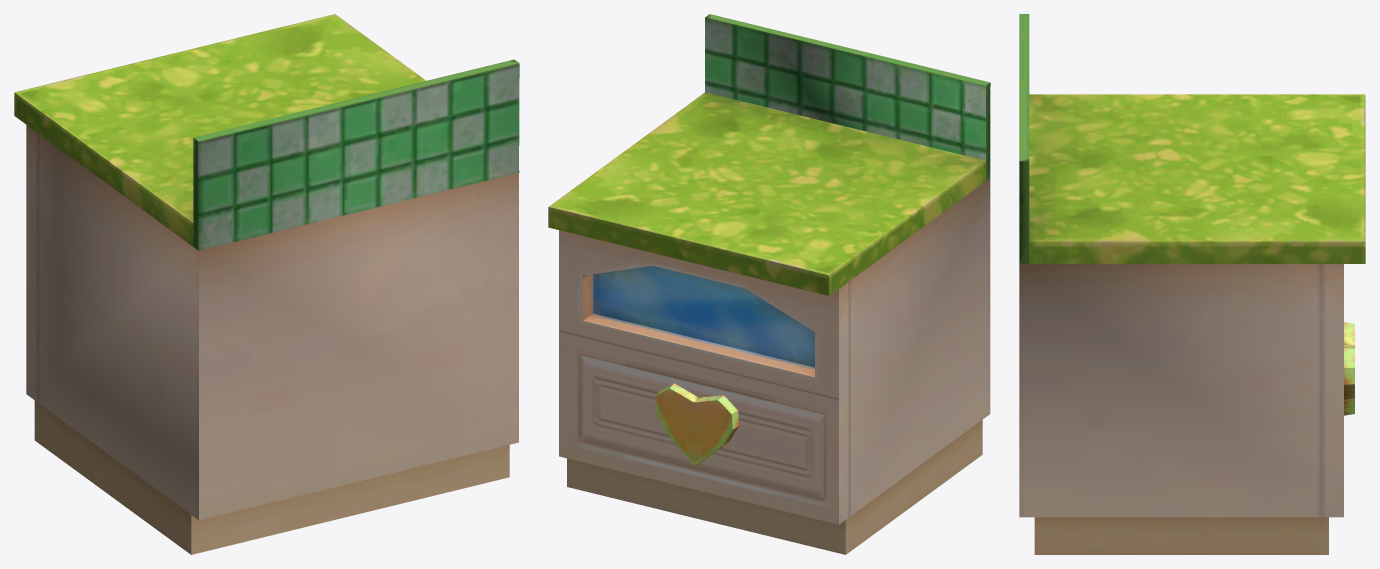
Rendered from furni_0200019_02.FBX.
3 renders of one model, left to right at view 1: azimuth 30°, elevation 25°; view 2: azimuth 150°, elevation 25°; view 3: azimuth 270°, elevation 25°, orthographic. The views are drawn at different scales.
Visible parts, largest first — view 1: furni_0200019_02; view 2: furni_0200019_02; view 3: furni_0200019_02.
Part boxes in pixels (<box>): furni_0200019_02: <box>14,14,519,554</box>; furni_0200019_02: <box>548,14,990,554</box>; furni_0200019_02: <box>1019,14,1365,554</box>.
Bounding box in the file's own units: 80.42 × 100 × 80.
